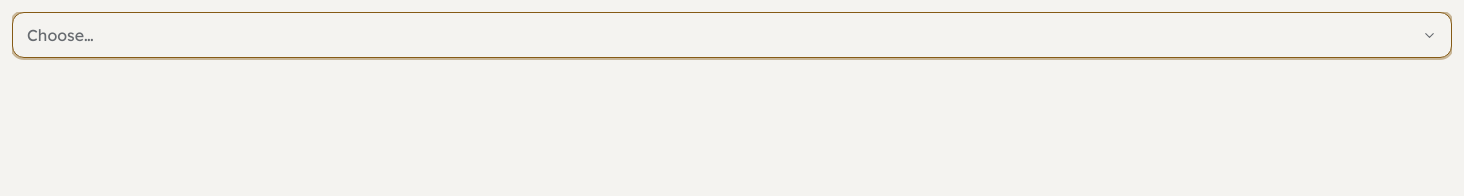
it: Select — what the person sees and operates › opens with Arrow Down from the keyboard, chooses with a click, closes and returns focus to the button
This screenshot has width=1464, height=196.
Press ArrowDown in the button "Choose…", box [12, 12, 1452, 58]
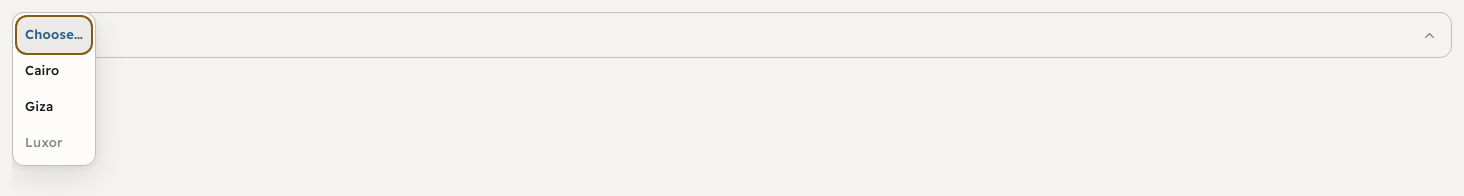
Click the option "Cairo" at coordinates (54, 71), box [17, 53, 91, 89]
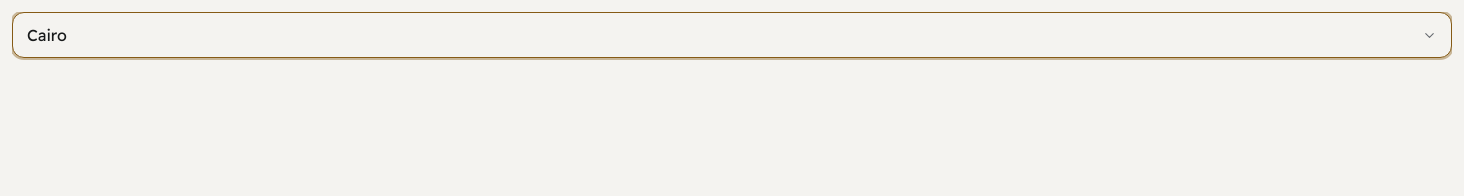
Result: the list is gone
